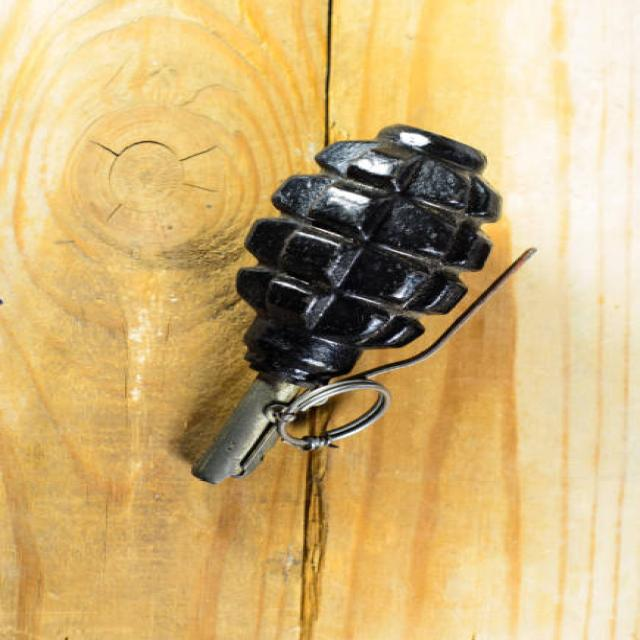grenade: (186, 118, 540, 494)
